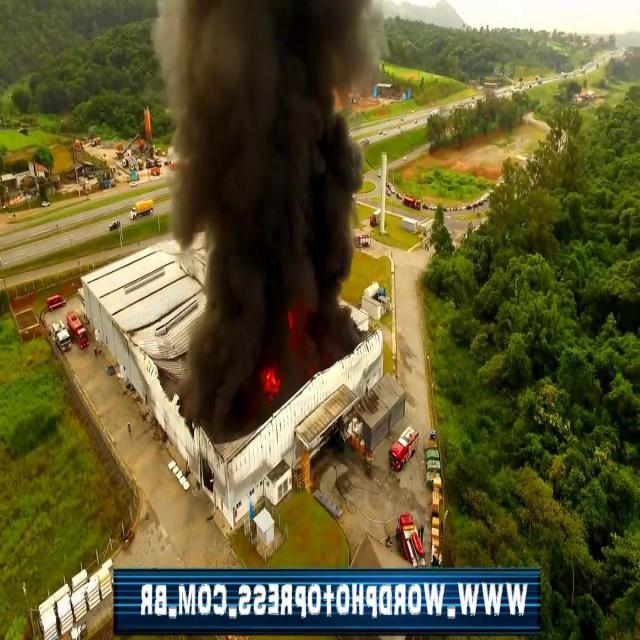fire: (256, 281, 310, 413)
